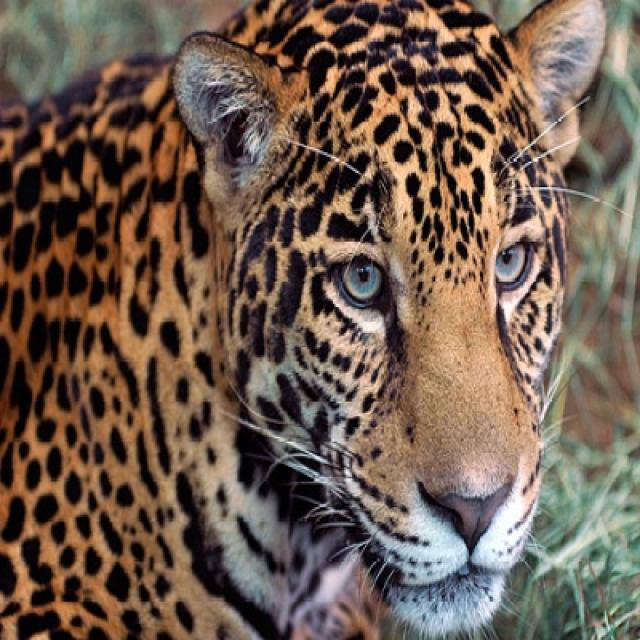Jaguar: (0, 0, 604, 638)
